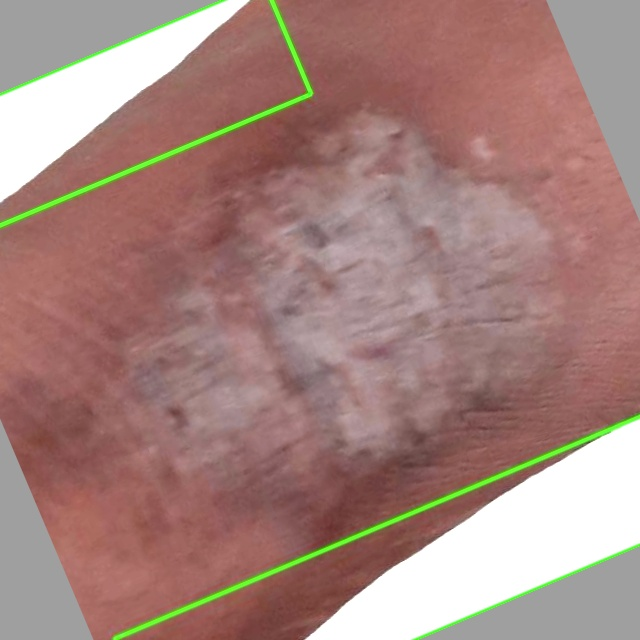Tinea Corporis: (114, 416, 639, 639), (0, 0, 311, 226)
